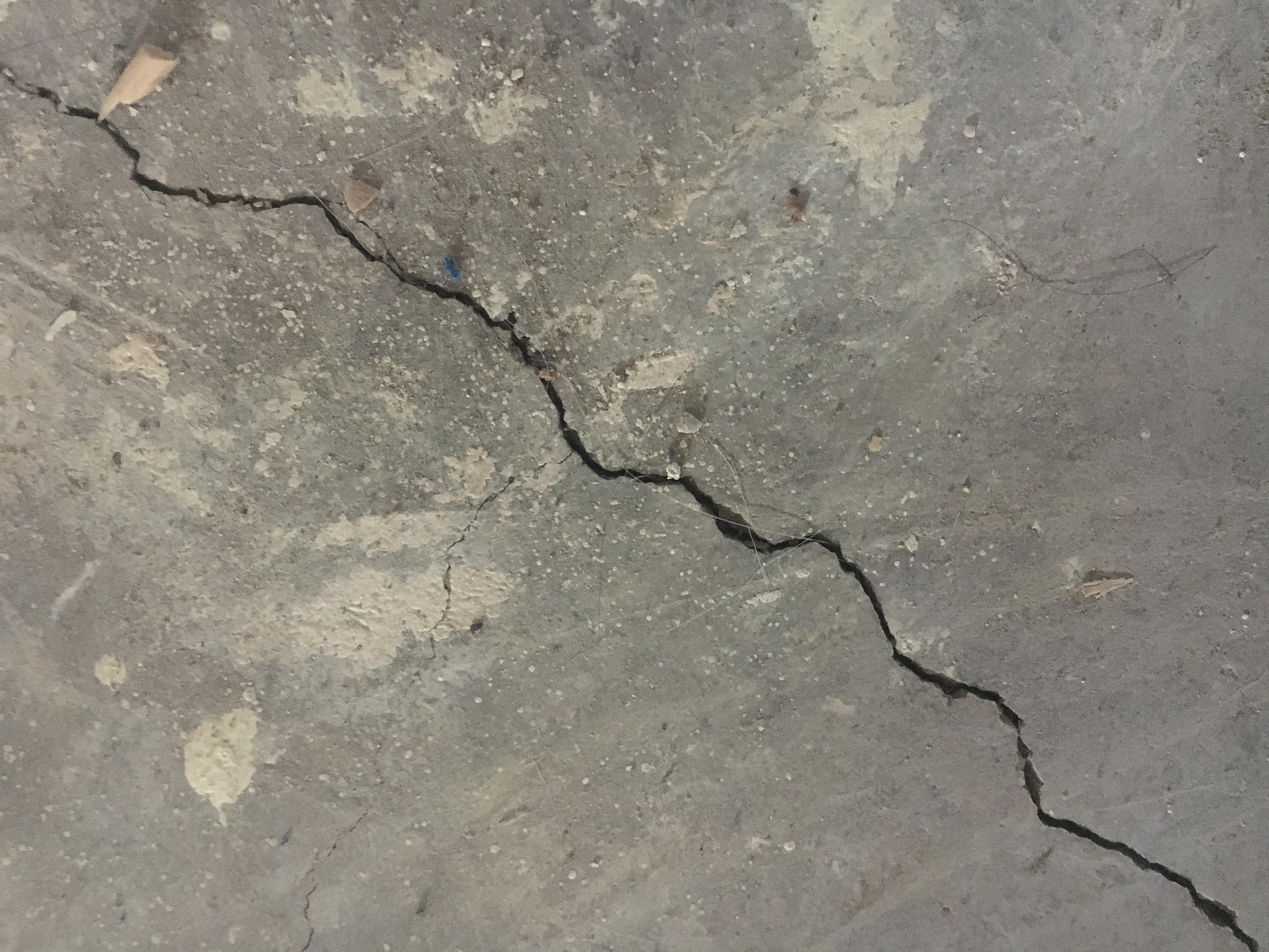Diagonal Crack: (5, 60, 1257, 947)
